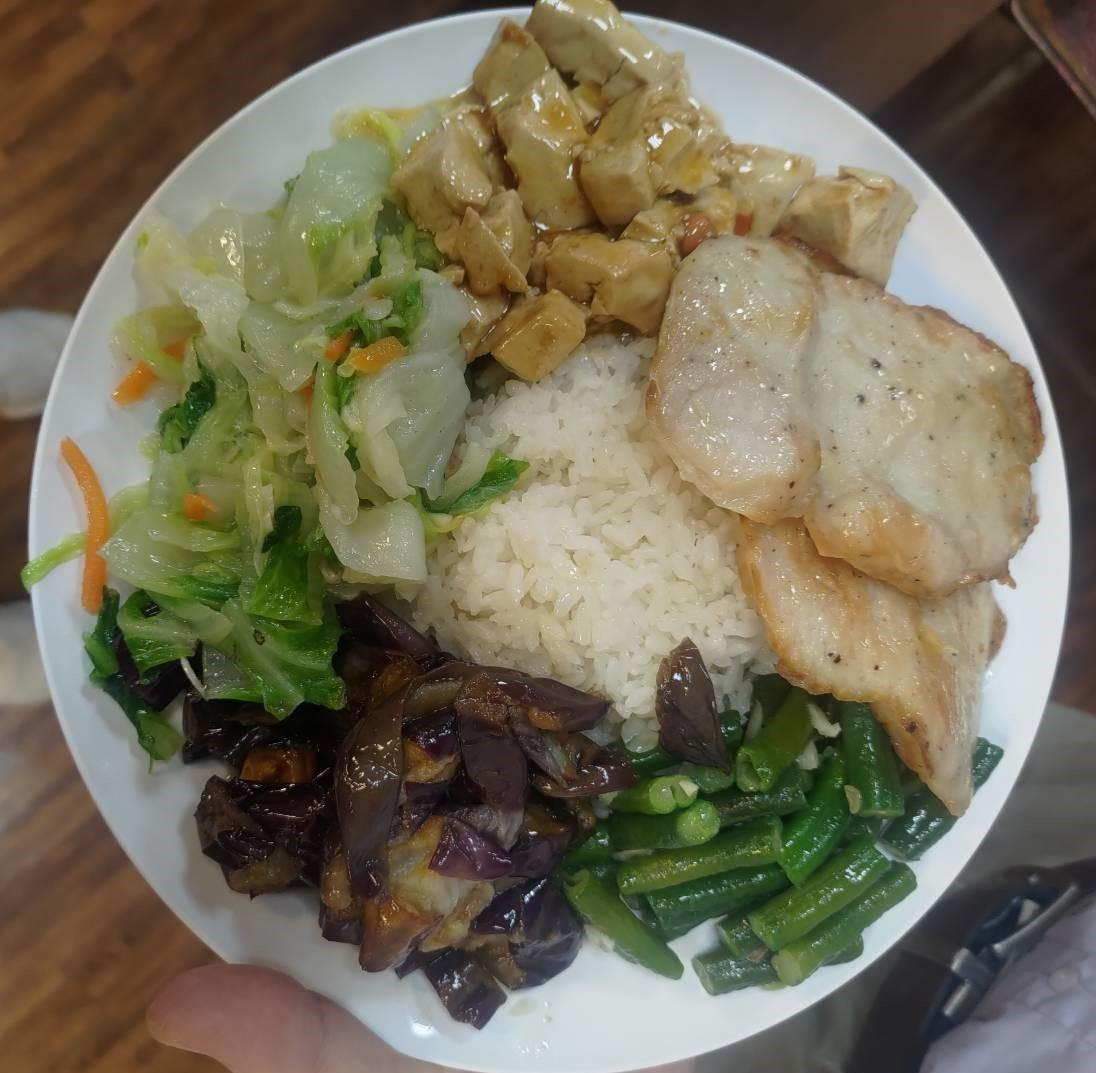big fried chicken leg: (23, 6, 1091, 1073)
big herbal chicken leg: (448, 326, 759, 708)
braised fish fillet: (83, 137, 475, 736), (390, 8, 917, 360), (205, 593, 610, 1022), (587, 691, 1012, 996)
braised pork: (639, 230, 1045, 580), (728, 523, 1019, 808)
